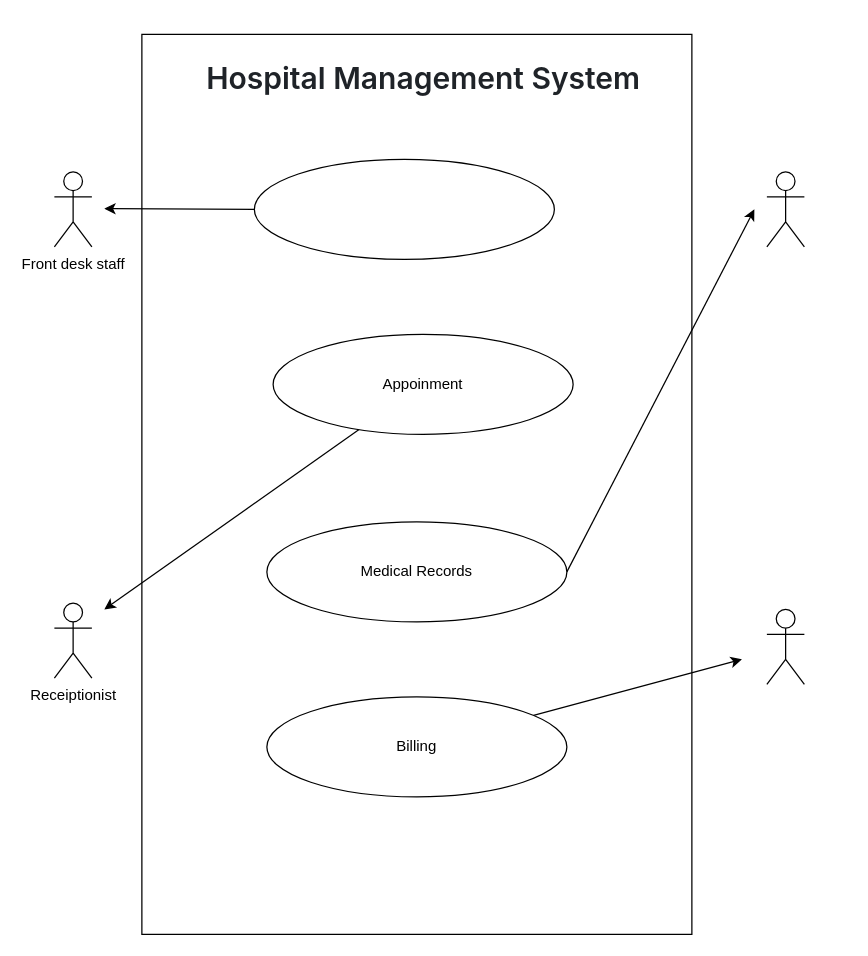
The diagram is 868 pixels wide and 956 high, and some of its shapes have lost their labels. Here are the shapes that lost their labels. From the top down, the box of each, then its label:
(253, 158, 554, 259): Manage Patient Admissions
(766, 171, 804, 247): Medical Staff
(766, 608, 804, 684): Billing Department
